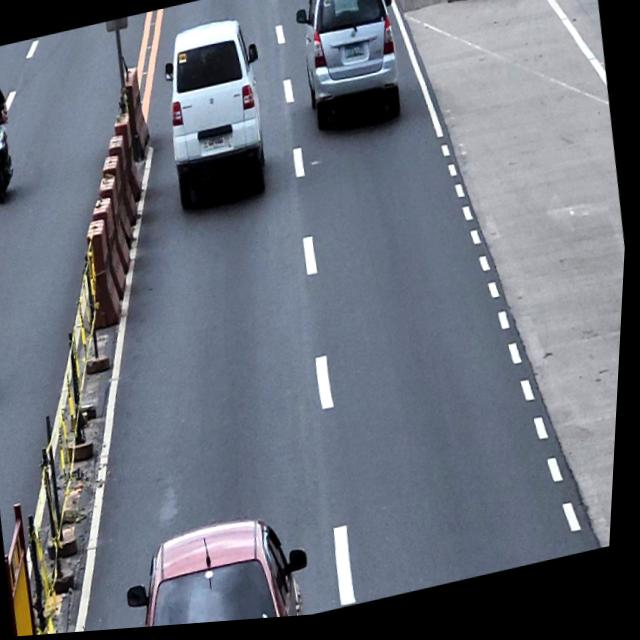Car: (153, 14, 282, 216), (123, 509, 323, 631), (286, 0, 411, 142)
License-Plate: (342, 44, 368, 66), (205, 136, 230, 155)
Motorcycle: (0, 102, 23, 206)
